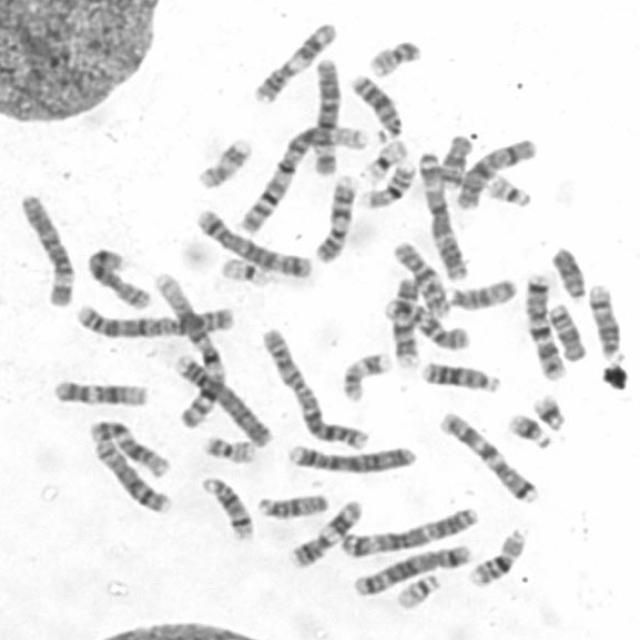A1: (235, 122, 372, 236), (151, 269, 226, 431)
A2: (258, 325, 370, 452), (69, 298, 236, 340)
A3: (336, 504, 480, 558), (414, 147, 470, 280)
B4: (171, 349, 274, 448), (283, 440, 416, 474)
B5: (193, 204, 314, 280), (349, 541, 475, 598)
C10: (381, 293, 472, 352), (389, 238, 452, 319)
C11: (248, 20, 339, 106), (286, 496, 364, 569)
C12: (85, 416, 171, 479), (49, 376, 150, 409)
C6: (14, 190, 76, 309), (307, 54, 342, 177)
C7: (436, 408, 539, 504), (520, 270, 568, 382)
C8: (88, 422, 173, 516), (83, 243, 153, 312)
C9: (312, 170, 361, 265), (386, 274, 423, 368)
D13: (347, 70, 403, 143), (418, 357, 500, 394)
D14: (200, 473, 255, 542), (584, 281, 624, 361)
D15: (445, 274, 518, 312), (255, 490, 330, 520)
E16: (464, 526, 529, 588), (355, 158, 417, 210)
E17: (193, 134, 253, 190), (338, 348, 393, 404)
E18: (544, 300, 588, 364), (436, 130, 474, 188)
F19: (360, 136, 410, 185), (218, 254, 273, 289)
F20: (363, 36, 422, 78), (200, 431, 257, 465)
G21: (506, 410, 553, 450), (529, 390, 568, 432)
G22: (484, 170, 534, 210), (392, 570, 441, 610)
X: (453, 134, 539, 212)
Y: (547, 241, 588, 301)
